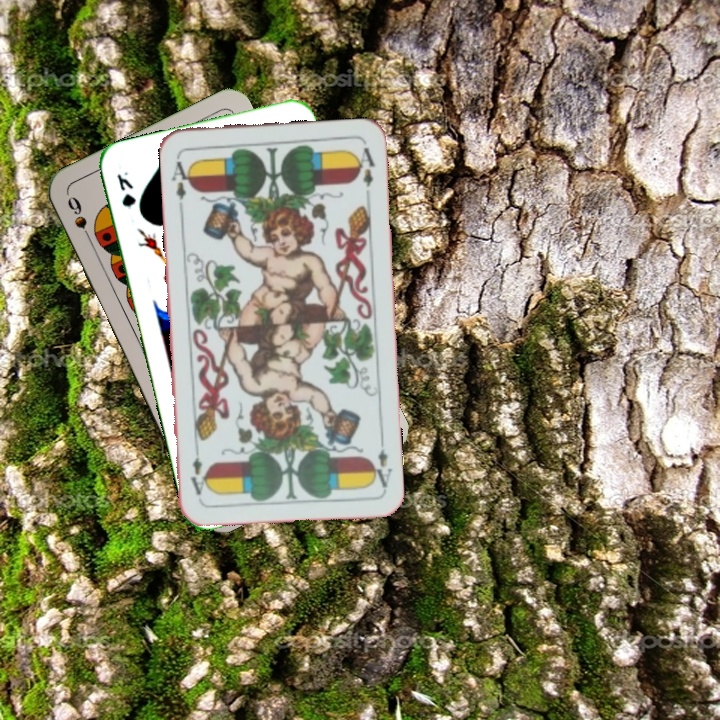EA: (367, 432, 395, 490), (167, 152, 195, 202)
GK: (112, 167, 139, 210)
S9: (63, 192, 96, 247)
